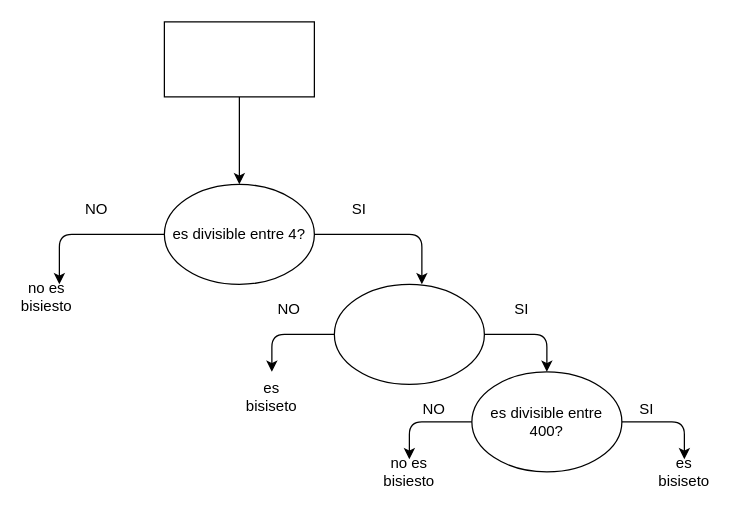
The diagram is 731 pixels wide and 511 high, and some of its shapes have lost their labels. The centre of each missing label's shape, as x and y in pixels:
"es divisible entre 100?" goes at point 408,333.
"inicio" goes at point 238,59.
